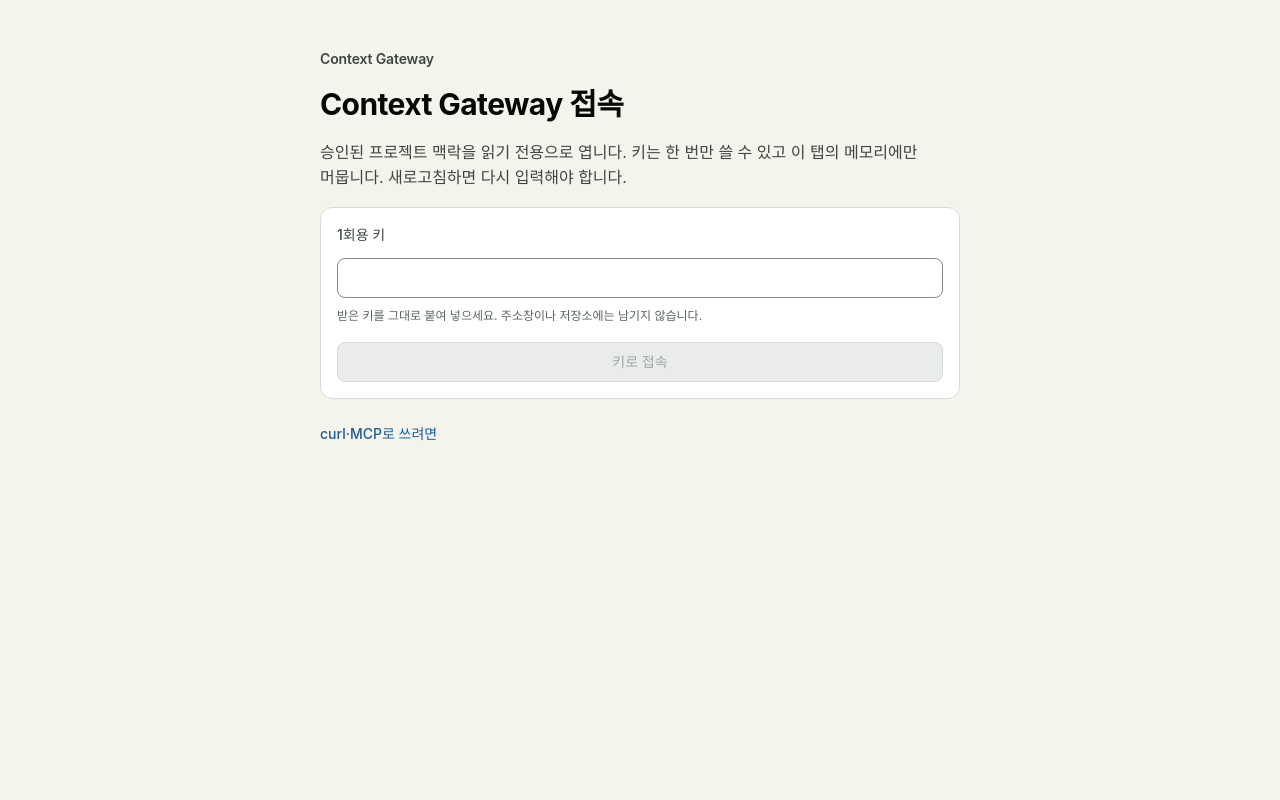
Scenario: 다른 프로젝트 데이터 비노출 › 서버가 다른 프로젝트의 검색 결과를 섞어 보내면 표시하지 않는다
The image size is (1280, 800).
Step 1. Type "synthetic-one-time-key-0001" into the password field labelled "1회용 키" → (640, 278), box [337,258,943,298]
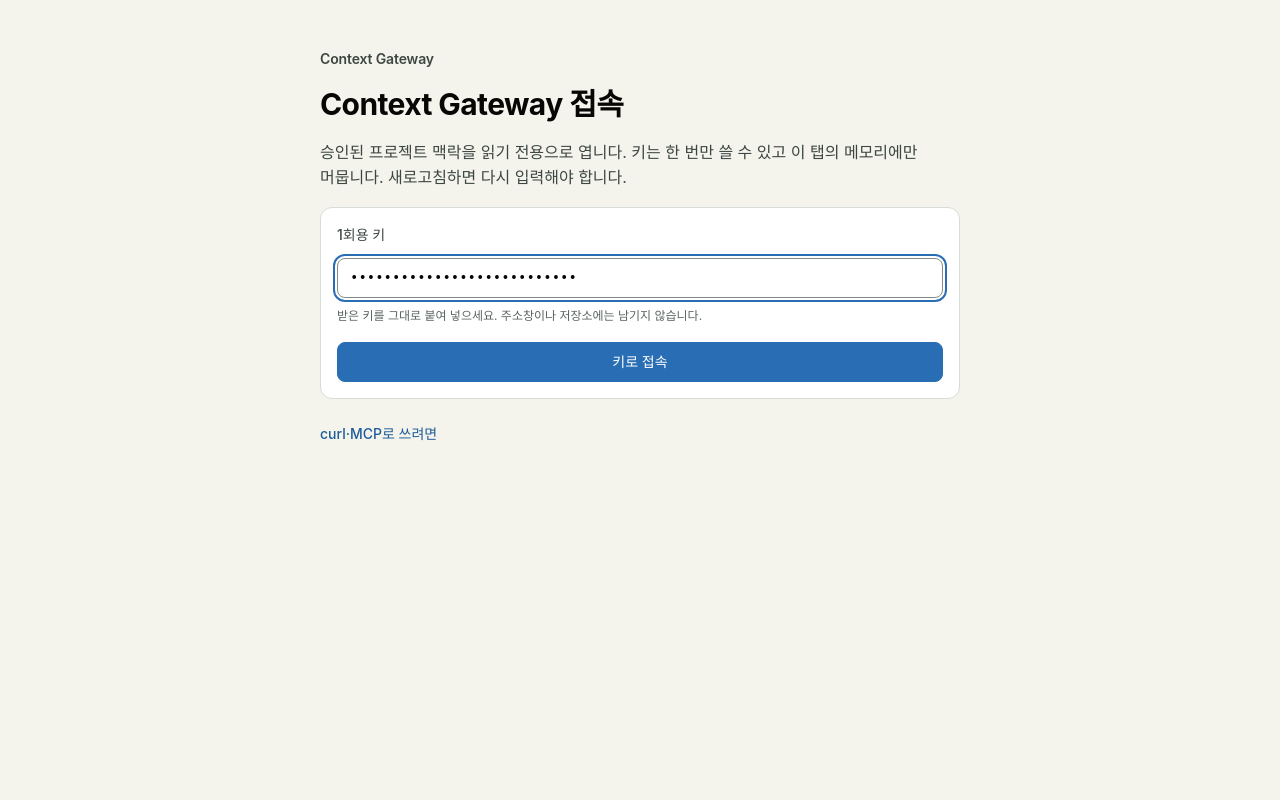
Step 2. Click the button "키로 접속" → (640, 362), box [337,342,943,382]
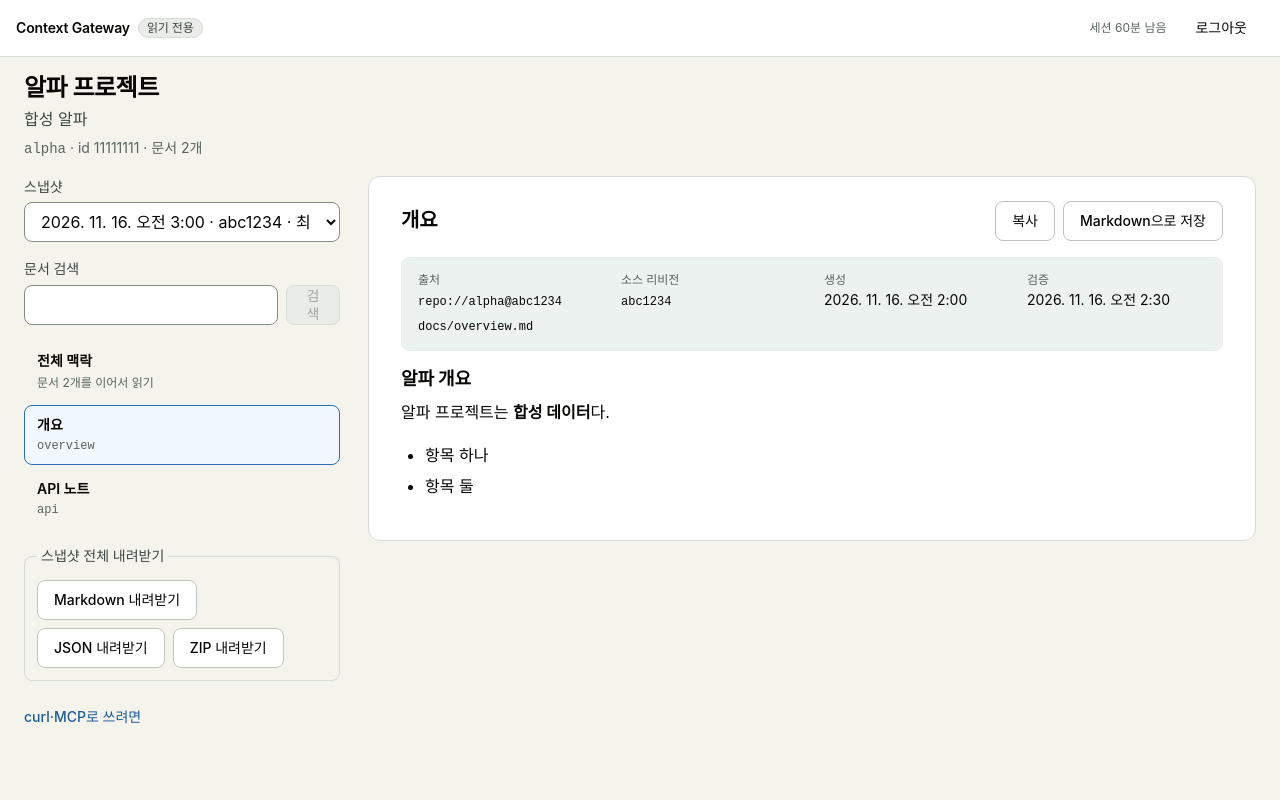
Now the heading "알파 프로젝트" is shown, box [24,73,159,102]
Now the text "합성 데이터" is shown, box [513,402,590,422]
Step 3. Type "알파" into the search field labelled "문서 검색" → (151, 305), box [24,285,278,325]
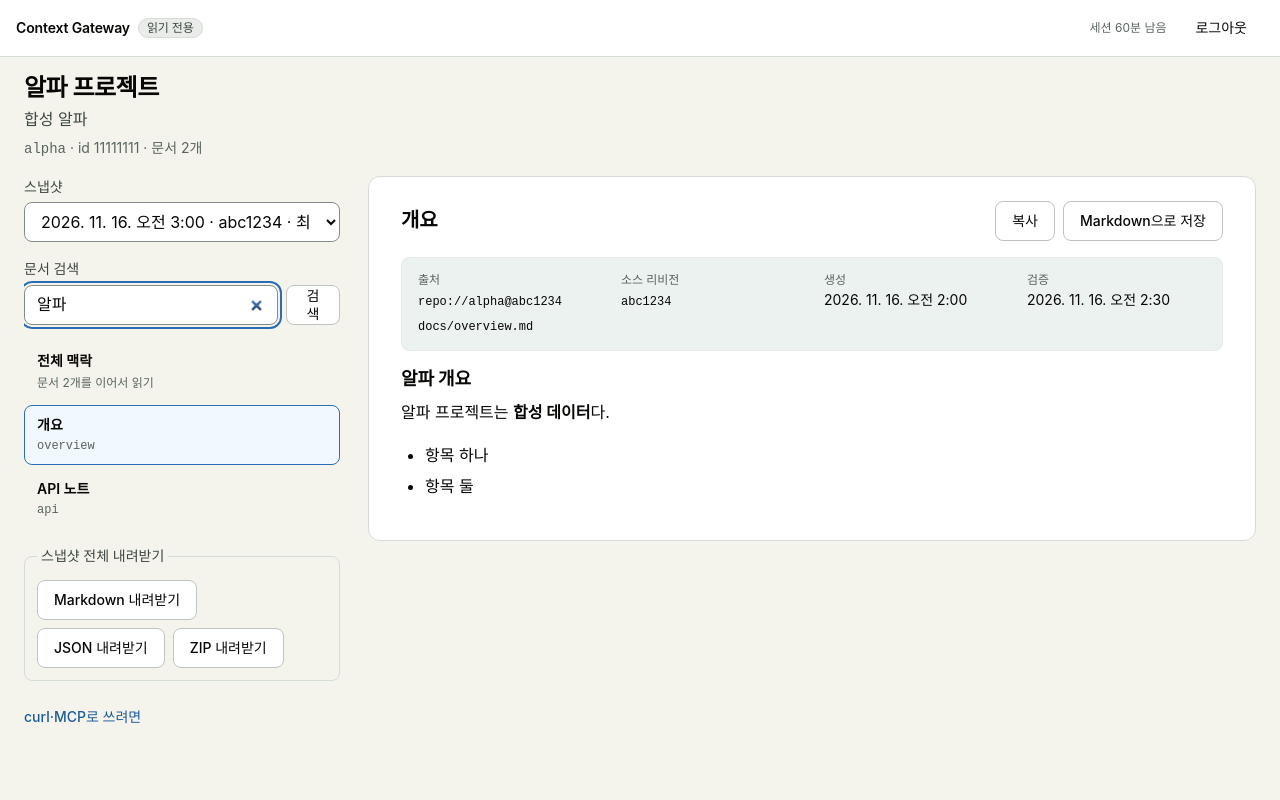
Step 4. Click the button "검색" → (313, 305), box [286,285,340,325]
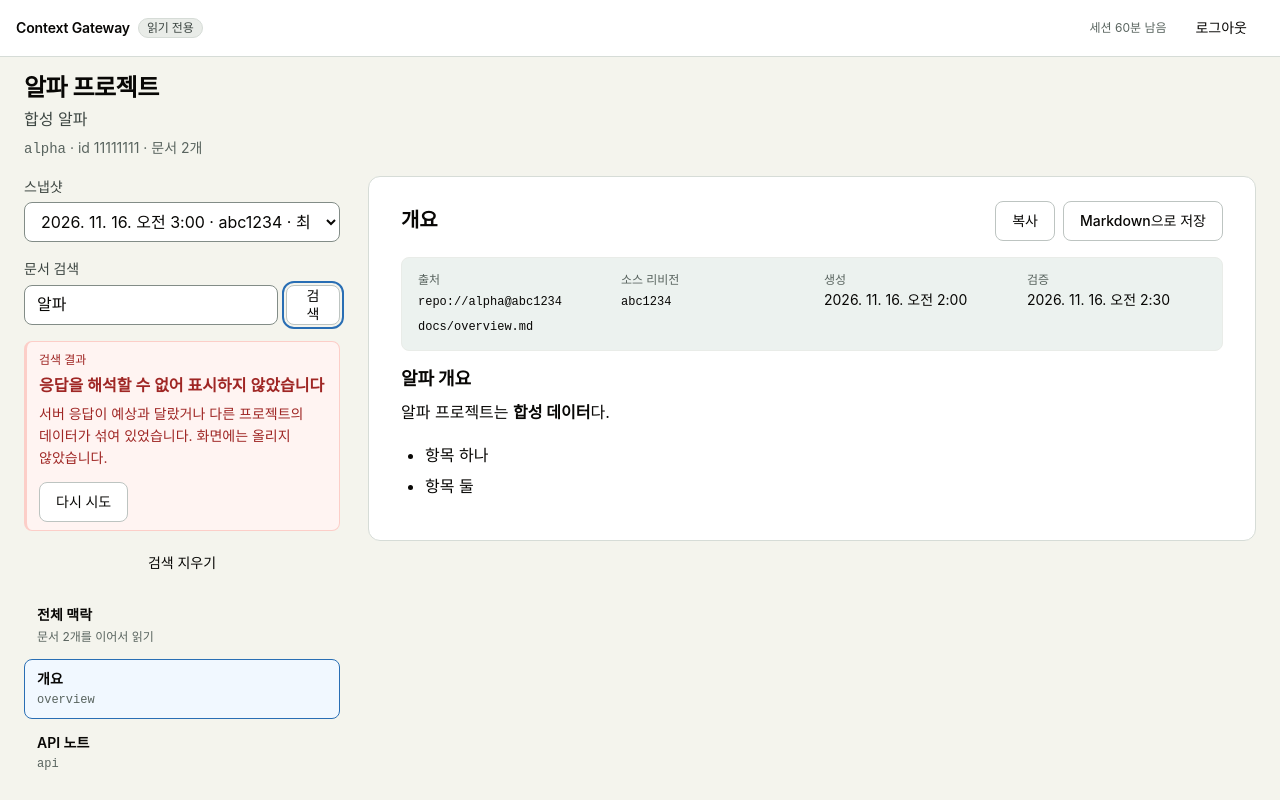
Now the message shows "응답을 해석할 수 없어", box [39,375,324,395]
